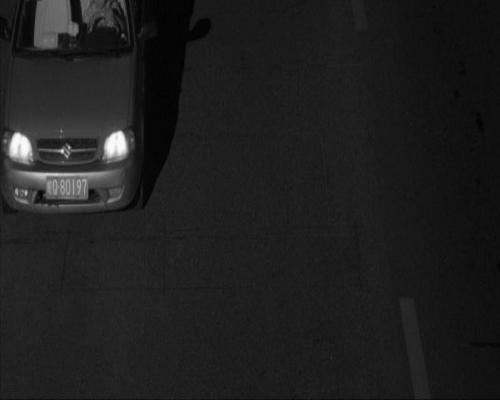Carplate: (45, 168, 92, 208)
